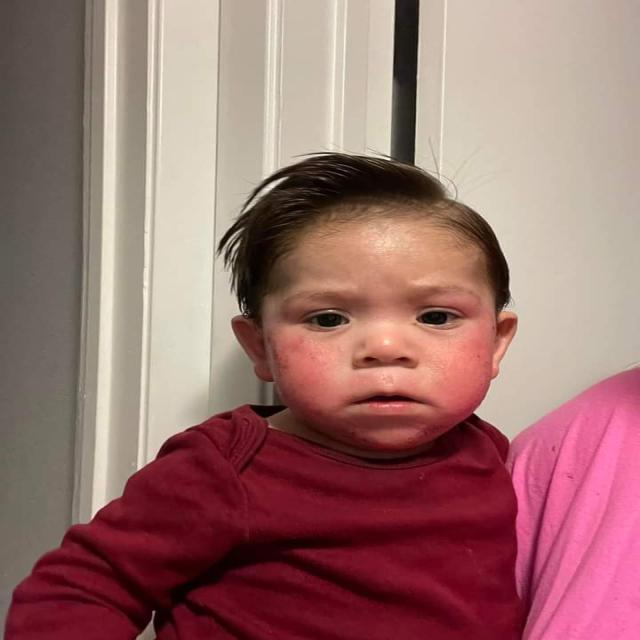Eczema Mild: (278, 347, 340, 388), (342, 418, 438, 437), (442, 352, 487, 382)
